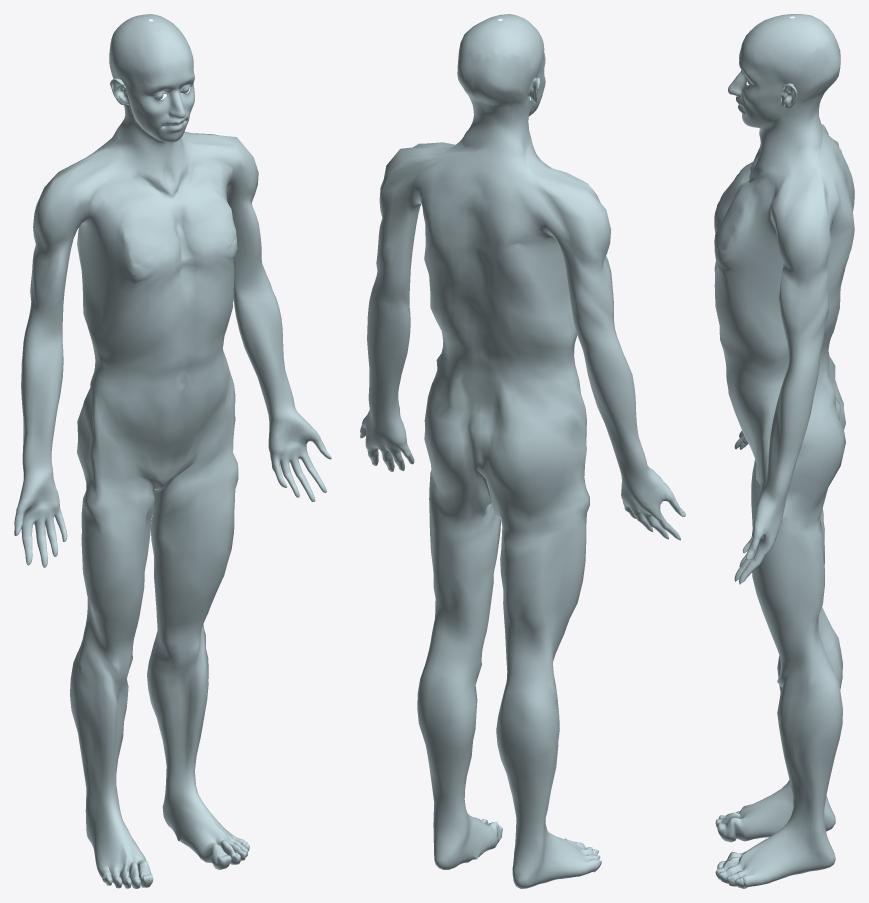
File: human-learning.glb
3 renders of one model, left to right at view 1: azimuth 30°, elevation 25°; view 2: azimuth 150°, elevation 25°; view 3: azimuth 270°, elevation 25°, orthographic. The views are drawn at different scales.
Visible parts, largest first — view 1: MakeHuman body - palms-forward study pose; view 2: MakeHuman body - palms-forward study pose; view 3: MakeHuman body - palms-forward study pose.
Part boxes in pixels (x1,y1,x2,y2): MakeHuman body - palms-forward study pose: (14,14,331,888); MakeHuman body - palms-forward study pose: (360,14,685,888); MakeHuman body - palms-forward study pose: (714,14,854,888).
Bounding box in the file's own units: 0.7022 × 1.77 × 0.2679.
